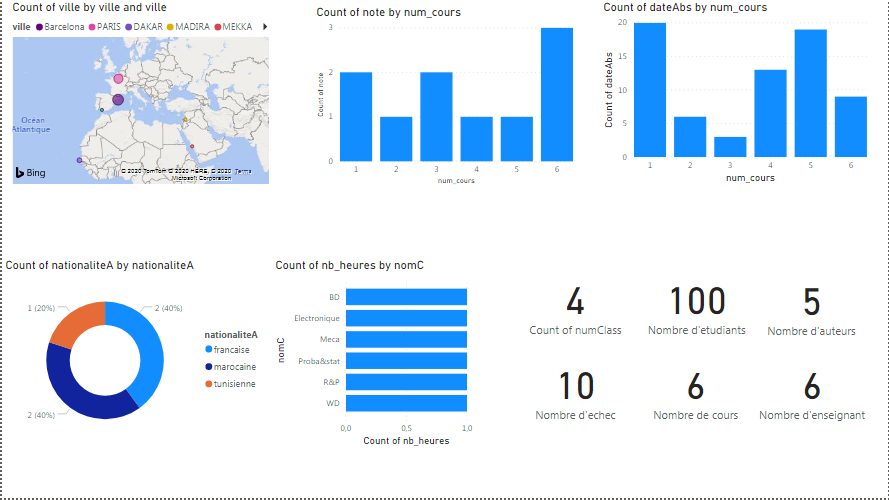

This screenshot's page, from the dashboard's own definition file:
{"tool":"powerbi","page":{"name":"Page 1","canvas":[1280,720],"ordinal":0},"visuals":[{"type":"map","fields":{"Size":["CountNonNull(Etudiant.ville)"],"Category":["Etudiant.ville"],"Series":["Etudiant.ville"]},"box":[10.1,0,380.8,271.8],"z":0},{"type":"clusteredColumnChart","fields":{"Y":["CountNonNull(Resultat.note)"],"Category":["Resultat.num_cours"]},"box":[449.6,6.7,380.8,265.1],"z":1000},{"type":"clusteredColumnChart","fields":{"Category":["Cours.num_cours"],"Y":["CountNonNull(Etudiant.dateAbs)"]},"box":[864,0,390.9,270.1],"z":2000},{"type":"donutChart","fields":{"Category":["Auteur.nationaliteA"],"Y":["CountNonNull(Auteur.nationaliteA)"]},"box":[0,372.4,390.9,276.8],"z":3000},{"type":"card","fields":{"Values":["CountNonNull(Etudiant.num_etu)"]},"box":[924.4,382.5,161,110.7],"z":4000},{"type":"card","fields":{"Values":["CountNonNull(Auteur.Nauteur)"]},"box":[1085.4,372.4,169.4,132.5],"z":5000},{"type":"card","fields":{"Values":["CountNonNull(Class.numClass)"]},"box":[744.6,388.9,169.2,99.8],"z":6000},{"type":"card","fields":{"Values":["CountNonNull(Cours.num_cours)"]},"box":[921,503.3,164.4,117.4],"z":7000},{"type":"card","fields":{"Values":["CountNonNull(Enseignant.num_ens)"]},"box":[1075.3,505,191.2,114.1],"z":8000},{"type":"clusteredBarChart","fields":{"Category":["Cours.nomC"],"Y":["CountNonNull(Cours.nb_heures)"]},"box":[390.9,372.4,295.3,276.8],"z":9000},{"type":"card","fields":{"Values":["CountNonNull(Resultat.num_etu)"]},"box":[744.8,503.3,169.4,115.8],"z":10000}]}

Visuals, with their boxes in screenshot pixels (x1, y1, x2, y2), scaled from the page's 1280x720 canvas onto the 889x500 screenshot:
map - CountNonNull(Etudiant.ville) x Etudiant.ville: x1=7, y1=0, x2=271, y2=189
clusteredColumnChart - CountNonNull(Resultat.note) x Resultat.num_cours: x1=312, y1=5, x2=577, y2=189
clusteredColumnChart - Cours.num_cours x CountNonNull(Etudiant.dateAbs): x1=600, y1=0, x2=872, y2=188
donutChart - Auteur.nationaliteA x CountNonNull(Auteur.nationaliteA): x1=0, y1=259, x2=271, y2=451
card - CountNonNull(Etudiant.num_etu): x1=642, y1=266, x2=754, y2=342
card - CountNonNull(Auteur.Nauteur): x1=754, y1=259, x2=871, y2=351
card - CountNonNull(Class.numClass): x1=517, y1=270, x2=635, y2=339
card - CountNonNull(Cours.num_cours): x1=640, y1=350, x2=754, y2=431
card - CountNonNull(Enseignant.num_ens): x1=747, y1=351, x2=880, y2=430
clusteredBarChart - Cours.nomC x CountNonNull(Cours.nb_heures): x1=271, y1=259, x2=477, y2=451
card - CountNonNull(Resultat.num_etu): x1=517, y1=350, x2=635, y2=430
